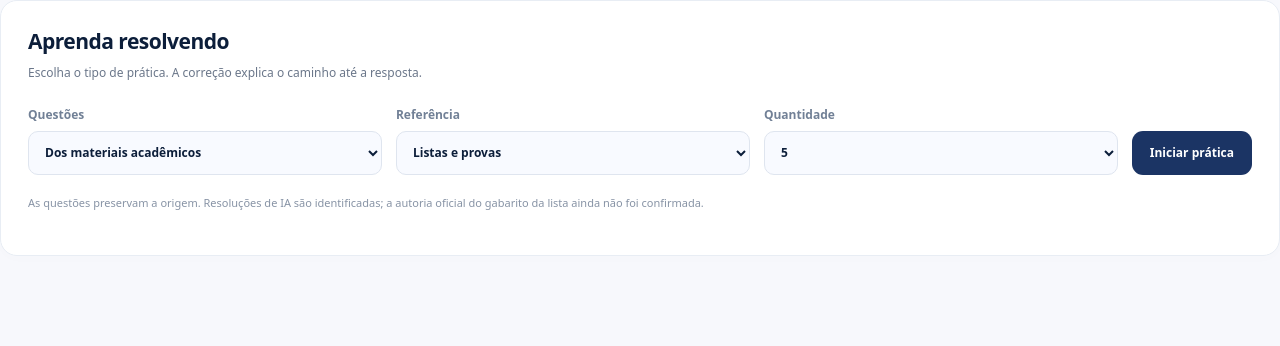
Test: Integração da seleção de prática de Estatística › exibe indisponibilidade do serviço e permite nova tentativa sem inventar questões
The width and height of the screenshot is (1280, 346).
Click the button "Iniciar prática": [1192, 153] box top-left (1132, 131), bottom-right (1252, 175)
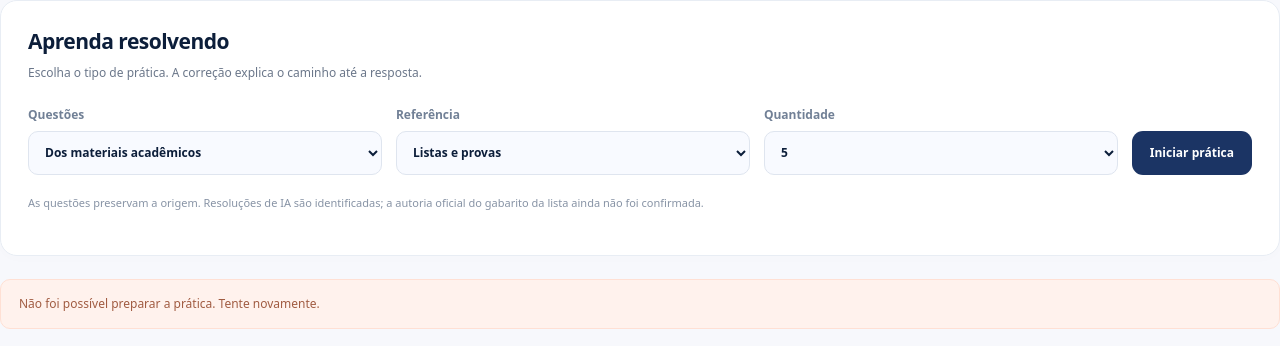
Check: the message reads "Não foi possível preparar a prática. Tente novamente.", box top-left (19, 296), bottom-right (320, 312)
